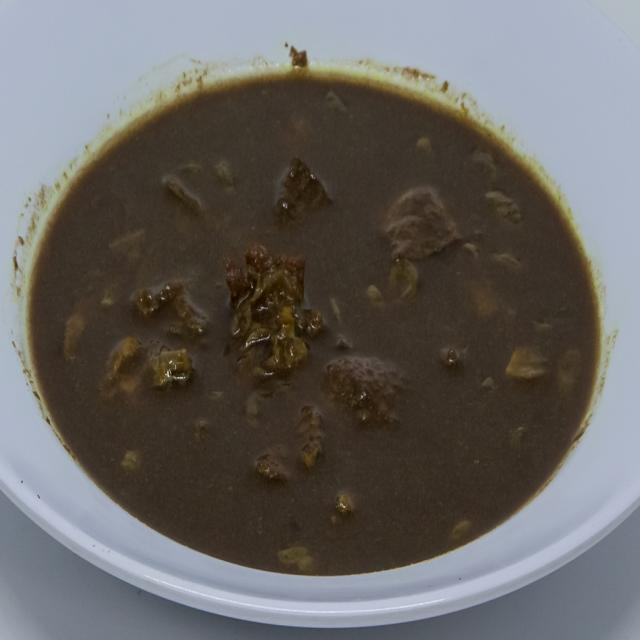Rawon-Surabaya: (18, 55, 601, 600)
